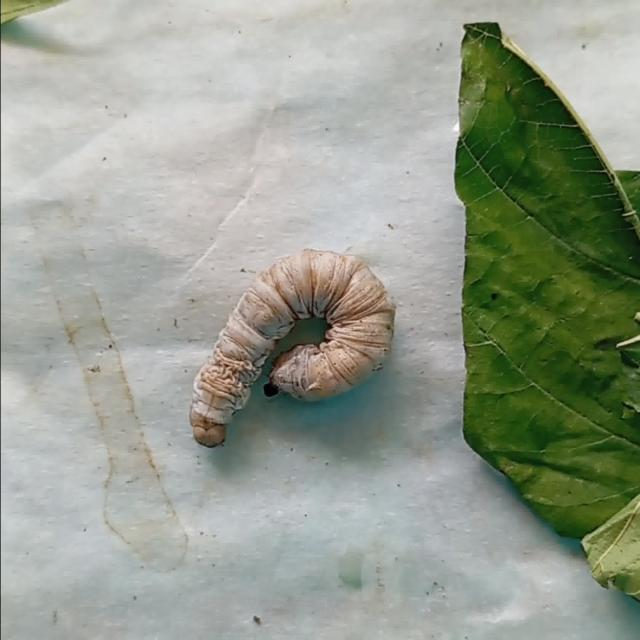Grasserie: (182, 224, 409, 450)
